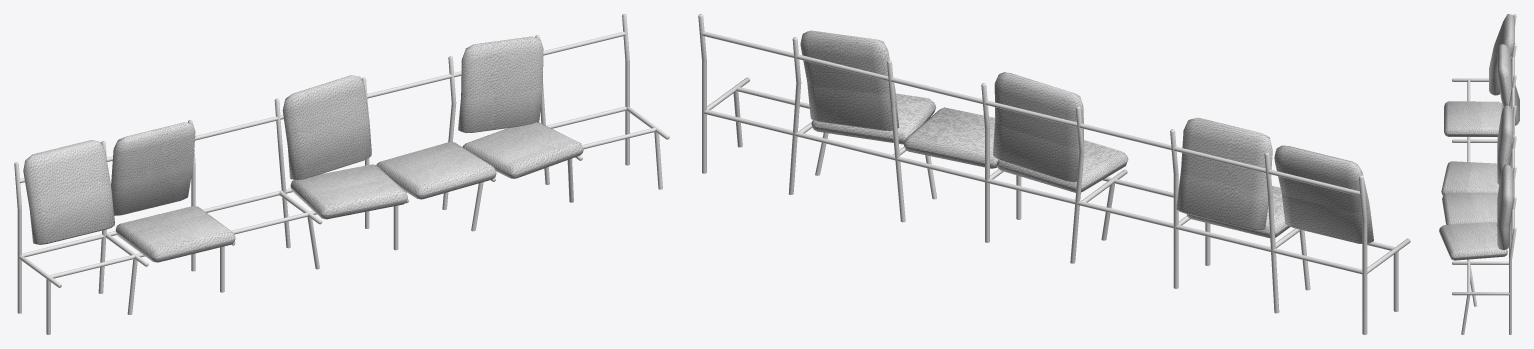
File: Seats01_1.FBX
3 views of the same model, side by side, from view 1: azimuth 30°, elevation 25°; view 2: azimuth 150°, elevation 25°; view 3: azimuth 270°, elevation 25° (orthographic). The views are drawn at different scales.
Visible parts, largest first — view 1: ChamferBox002, Cylinder004; view 2: ChamferBox002, Cylinder004; view 3: ChamferBox002, Cylinder004.
Part boxes in pixels (x1=…): ChamferBox002: x1=23, y1=36, x2=583, y2=262; Cylinder004: x1=14, y1=14, x2=669, y2=334; ChamferBox002: x1=800, y1=30, x2=1373, y2=243; Cylinder004: x1=698, y1=14, x2=1410, y2=334; ChamferBox002: x1=1439, y1=14, x2=1519, y2=260; Cylinder004: x1=1452, y1=14, x2=1516, y2=334.
Bounding box in the file's own units: 97.09 × 24.16 × 15.47.
